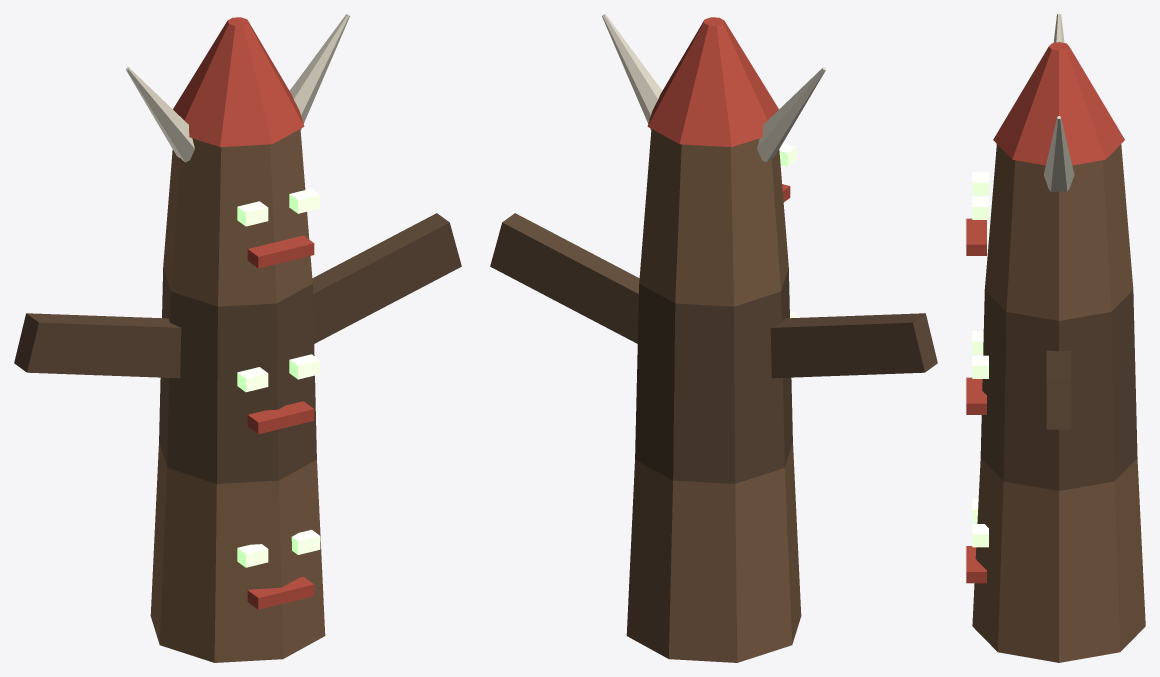
Rendered from goblin_totem.glb.
The picture shows the model from 3 angles, left to right: view 1: azimuth 30°, elevation 25°; view 2: azimuth 150°, elevation 25°; view 3: azimuth 270°, elevation 25°; orthographic projection. The views are drawn at different scales.
Visible parts, largest first — view 1: goblin_totem; view 2: goblin_totem; view 3: goblin_totem.
Part boxes in pixels (x1,y1,x2,y2): goblin_totem: (14, 14, 461, 662); goblin_totem: (490, 14, 937, 662); goblin_totem: (966, 14, 1145, 662).
Size of the model in its own units: 2.33 by 3.1 by 0.87.
